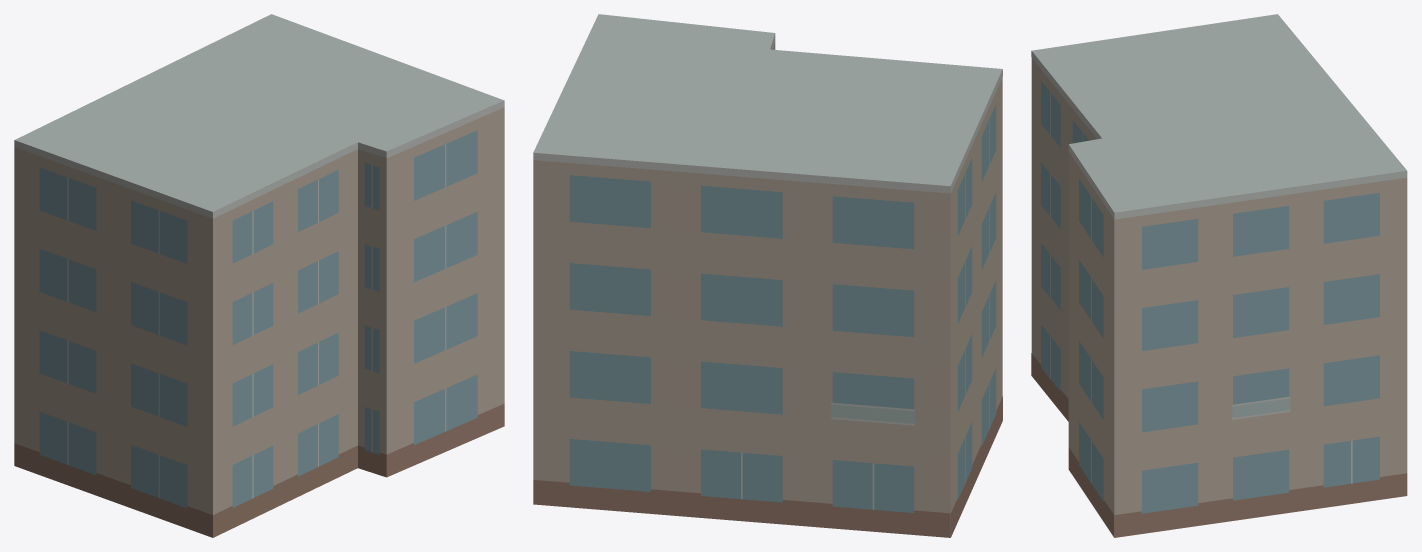
File: survey-upis-32912429.glb
3 renders of one model, left to right at view 1: azimuth 30°, elevation 25°; view 2: azimuth 150°, elevation 25°; view 3: azimuth 270°, elevation 25°, orthographic. The views are drawn at different scales.
Parts seen in each view (by area): view 1: survey-upis-32912429.tmp; view 2: survey-upis-32912429.tmp; view 3: survey-upis-32912429.tmp.
Part boxes in pixels (bbox=[...]): survey-upis-32912429.tmp: bbox=[14, 14, 504, 537]; survey-upis-32912429.tmp: bbox=[533, 14, 1002, 537]; survey-upis-32912429.tmp: bbox=[1031, 14, 1407, 537].
Bounding box in the file's own units: 15.35 × 11.7 × 12.27.
